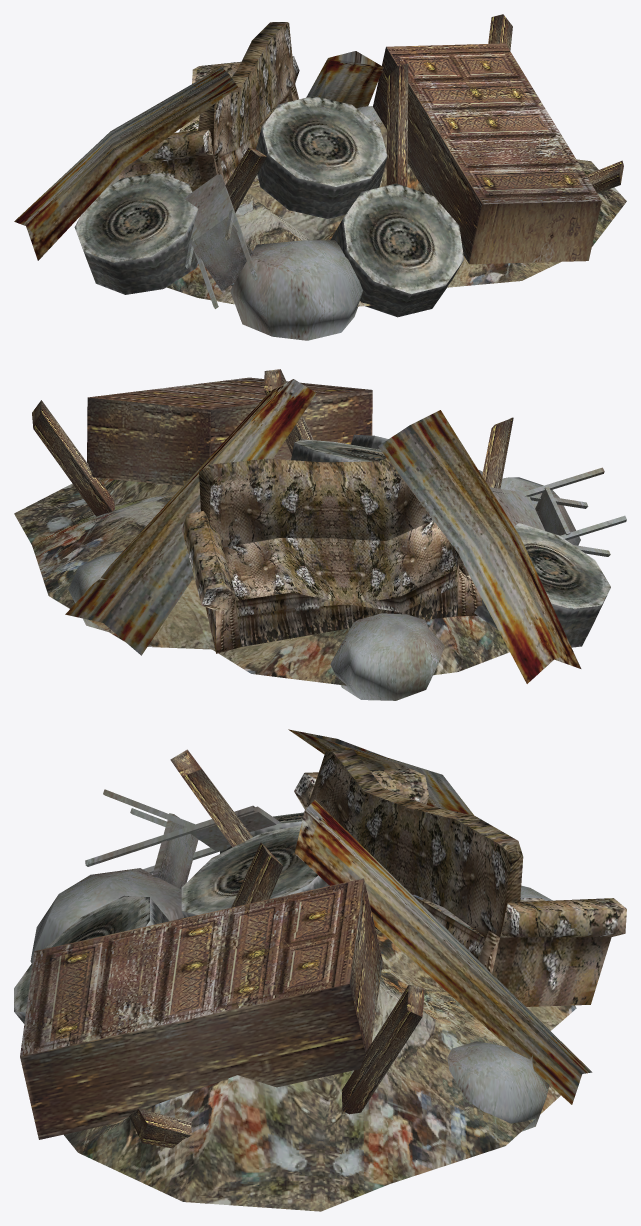
File: RdBlk1.glb
The picture shows the model from 3 angles, top to bottom: view 1: azimuth 30°, elevation 25°; view 2: azimuth 150°, elevation 25°; view 3: azimuth 270°, elevation 25°; orthographic projection. The views are drawn at different scales.
Parts seen in each view (by area): view 1: _RdBlk1; view 2: _RdBlk1; view 3: _RdBlk1.
Boxes of the visible parts, bbox=[...] form: _RdBlk1: bbox=[14, 14, 626, 340]; _RdBlk1: bbox=[14, 369, 626, 700]; _RdBlk1: bbox=[14, 729, 626, 1211].
Bounding box in the file's own units: 6.23 × 2.13 × 4.55.
1 material, 1 textured.
